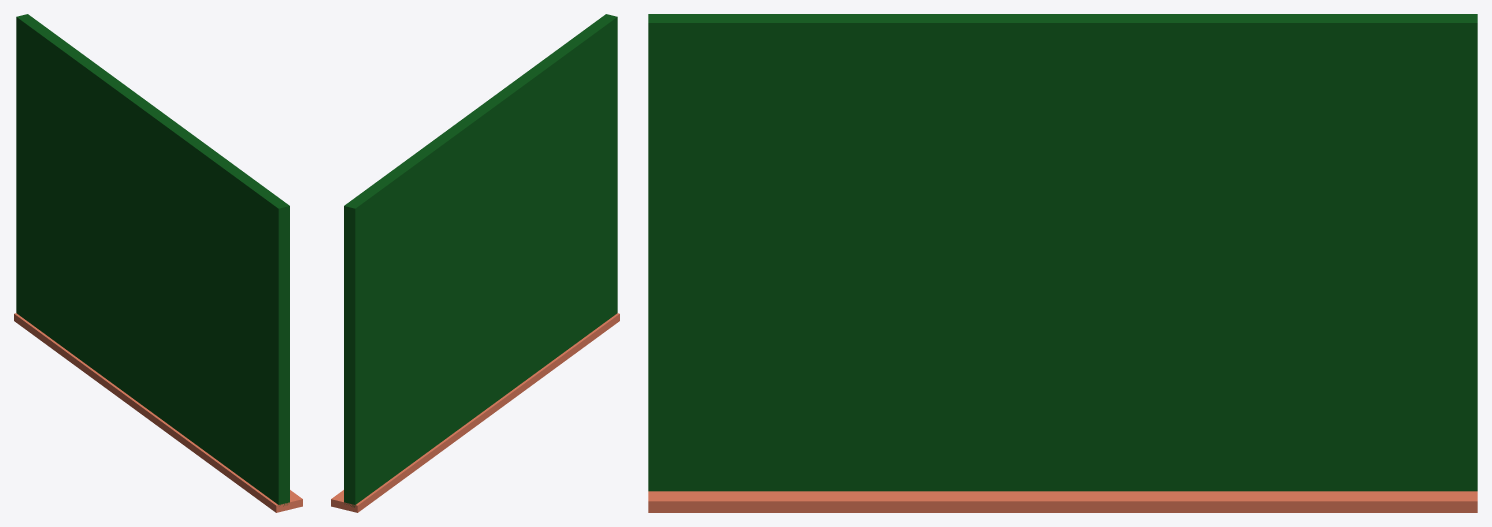
File: tablica.fbx
3 views of the same model, side by side, from view 1: azimuth 30°, elevation 25°; view 2: azimuth 150°, elevation 25°; view 3: azimuth 270°, elevation 25° (orthographic). The views are drawn at different scales.
Parts seen in each view (by area): view 1: Cube.001; view 2: Cube.001; view 3: Cube.001.
Boxes of the visible parts, x1,y1,x2,y2 form: Cube.001: (14, 14, 302, 512); Cube.001: (331, 14, 619, 512); Cube.001: (648, 14, 1477, 512).
Bounding box in the file's own units: 119 × 1294 × 2026.
